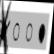correct: (37, 23, 46, 45)
